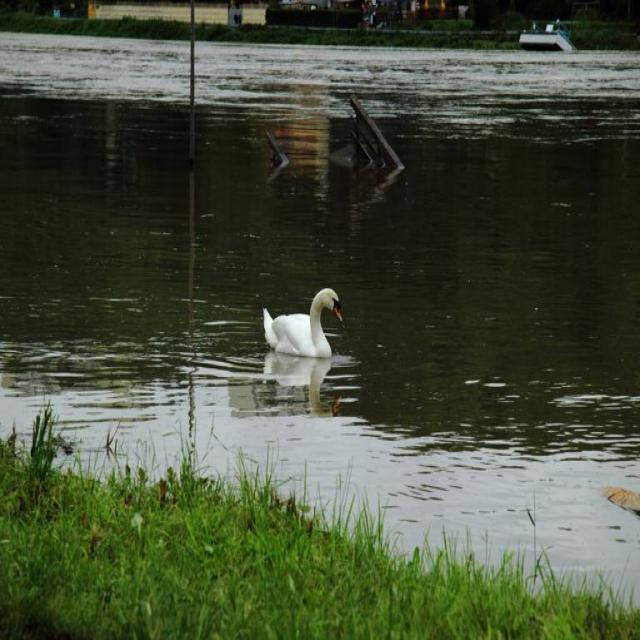flood: (0, 47, 640, 583)
